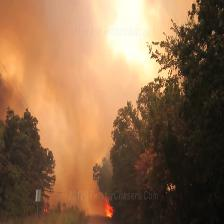fire: (101, 200, 117, 220)
smoke: (0, 0, 162, 190)
